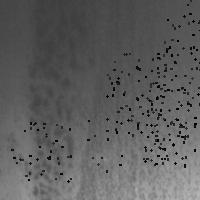pitted_surface: (85, 3, 188, 195), (21, 2, 92, 196), (87, 111, 146, 170), (11, 122, 70, 180), (130, 109, 187, 166), (107, 53, 165, 108), (148, 90, 200, 149), (106, 76, 158, 135), (157, 39, 200, 98), (157, 41, 200, 97), (167, 0, 200, 51)
